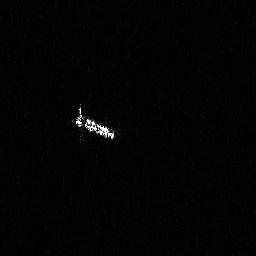ship: (71, 102, 116, 146)
